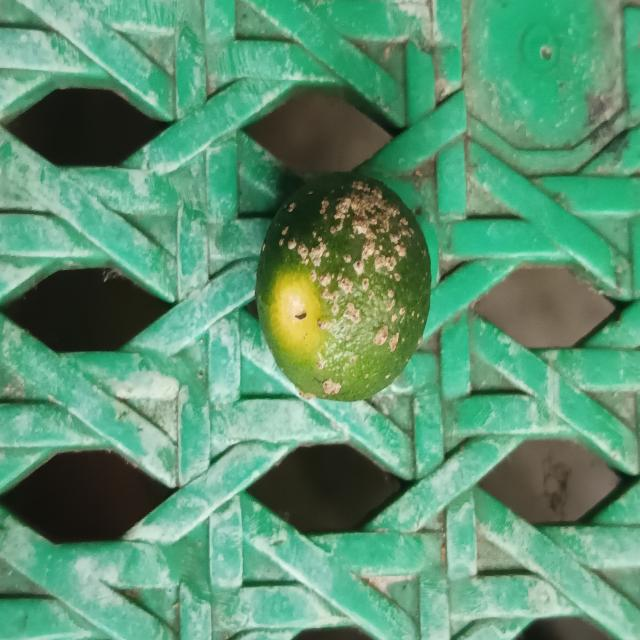scab: (250, 175, 436, 408)
